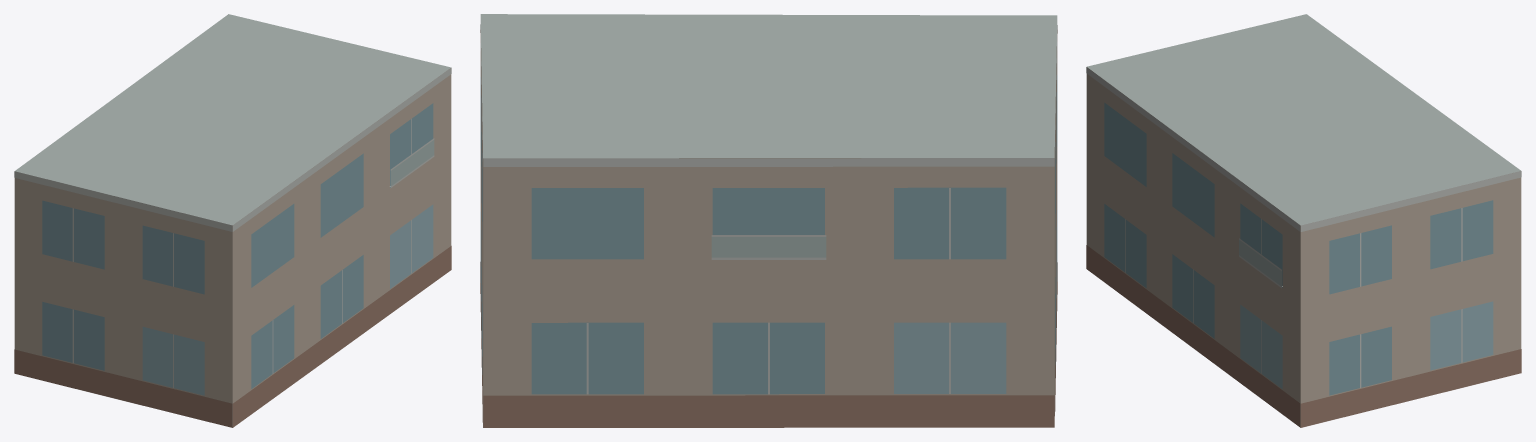
The model's file is survey-upis-32910430.glb.
3 renders of one model, left to right at view 1: azimuth 30°, elevation 25°; view 2: azimuth 150°, elevation 25°; view 3: azimuth 270°, elevation 25°, orthographic. The views are drawn at different scales.
Parts seen in each view (by area): view 1: survey-upis-32910430.tmp; view 2: survey-upis-32910430.tmp; view 3: survey-upis-32910430.tmp.
Part boxes in pixels (<box>): survey-upis-32910430.tmp: <box>14,14,451,427</box>; survey-upis-32910430.tmp: <box>480,14,1057,427</box>; survey-upis-32910430.tmp: <box>1086,14,1521,427</box>.
Size of the model in its own units: 16.79 by 7.48 by 14.59.
